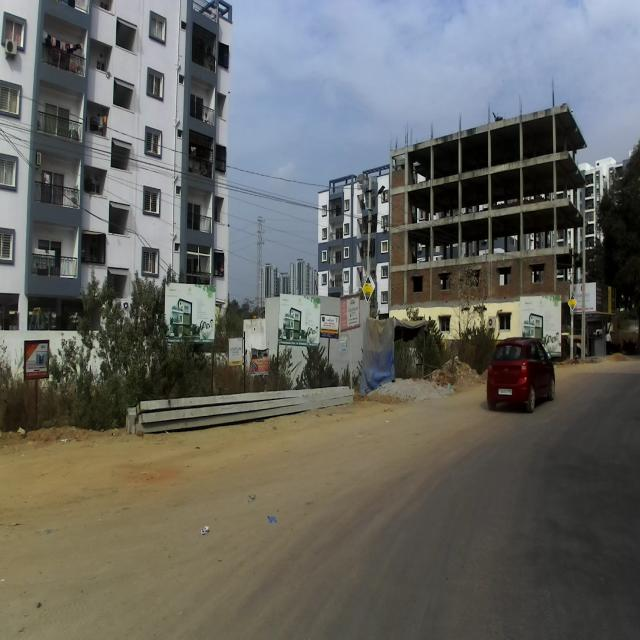car ahead at: (486, 336, 557, 408)
